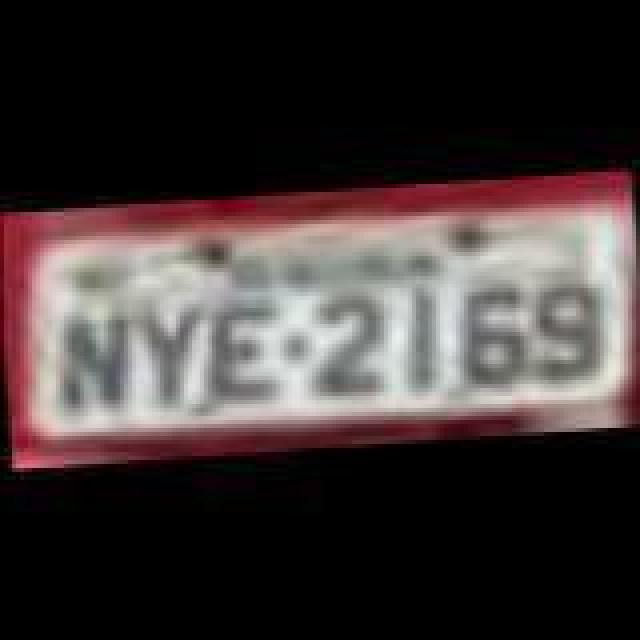1: (400, 284, 452, 388)
2: (308, 288, 392, 400)
6: (456, 280, 532, 392)
9: (534, 276, 606, 388)
E: (202, 298, 282, 406)
N: (54, 304, 142, 416)
Y: (130, 304, 210, 416)
